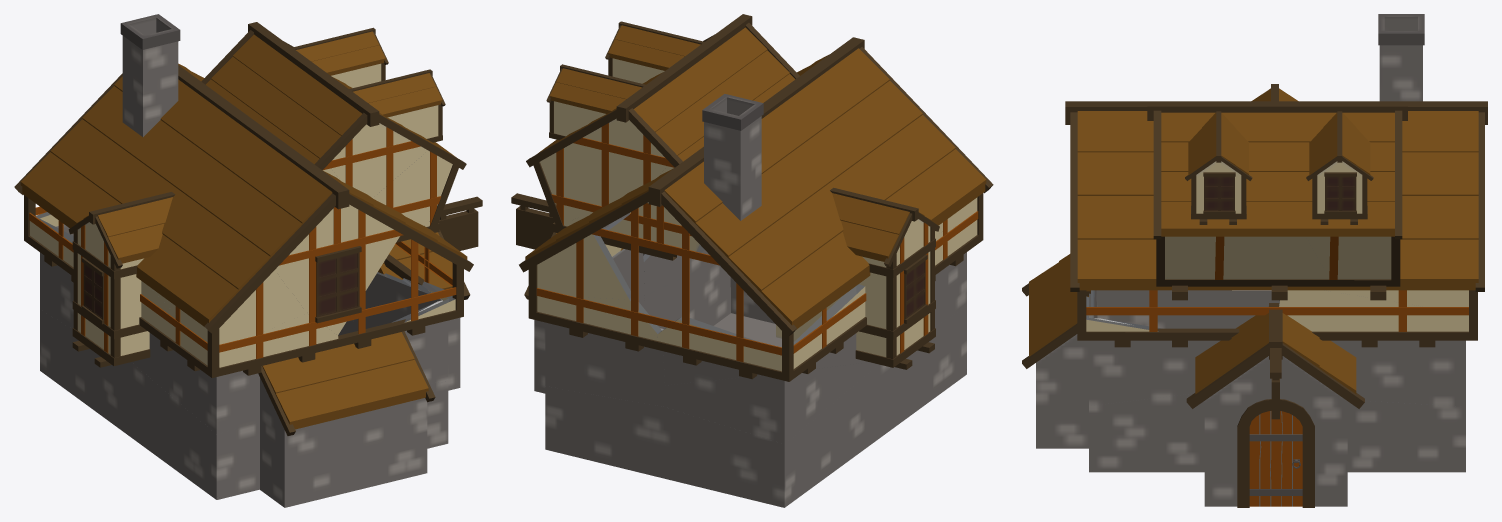
File: ExplodedHouseCastle#1.fbx
3 renders of one model, left to right at view 1: azimuth 30°, elevation 25°; view 2: azimuth 150°, elevation 25°; view 3: azimuth 270°, elevation 25°, orthographic. The views are drawn at different scales.
Visible parts, largest first — view 1: HouseCastle#1.038, HouseCastle#1.073, HouseCastle#1.074, HouseCastle#1_cell.019, HouseCastle#1_cell.014, HouseCastle#1.075, HouseCastle#1.072, HouseCastle#1.076, HouseCastle#1.039, HouseCastle#1.017, HouseCastle#1_cell.001, HouseCastle#1_cell.016 (+47 smaller); view 2: HouseCastle#1_cell.001, HouseCastle#1.073, HouseCastle#1.074, HouseCastle#1.075, HouseCastle#1_cell.015, HouseCastle#1_cell.012, HouseCastle#1.072, HouseCastle#1_cell.017, HouseCastle#1.076, HouseCastle#1_cell, HouseCastle#1_cell.019, HouseCastle#1_cell.005 (+47 smaller); view 3: HouseCastle#1.080, HouseCastle#1.071, HouseCastle#1_cell.005, HouseCastle#1_cell.012, HouseCastle#1_cell.016, HouseCastle#1_cell.017, HouseCastle#1.070, HouseCastle#1.069, HouseCastle#1.102_cell.004, HouseCastle#1.068, HouseCastle#1.159, HouseCastle#1.038 (+43 smaller).
Part boxes in pixels (<box>): HouseCastle#1.038: <box>260,378,427,507</box>; HouseCastle#1.073: <box>82,86,302,257</box>; HouseCastle#1.074: <box>50,119,270,291</box>; HouseCastle#1_cell.019: <box>128,362,259,498</box>; HouseCastle#1_cell.014: <box>131,281,338,434</box>; HouseCastle#1.075: <box>20,152,238,326</box>; HouseCastle#1.072: <box>114,76,332,224</box>; HouseCastle#1.076: <box>120,14,180,136</box>; HouseCastle#1.039: <box>276,359,428,429</box>; HouseCastle#1.017: <box>24,195,463,377</box>; HouseCastle#1_cell.001: <box>40,309,128,434</box>; HouseCastle#1_cell.016: <box>365,272,455,383</box>; HouseCastle#1_cell.001: <box>665,367,875,507</box>; HouseCastle#1.073: <box>695,81,922,257</box>; HouseCastle#1.074: <box>728,115,955,292</box>; HouseCastle#1.075: <box>761,149,986,329</box>; HouseCastle#1_cell.015: <box>665,362,876,444</box>; HouseCastle#1_cell.012: <box>545,386,664,478</box>; HouseCastle#1.072: <box>664,48,889,223</box>; HouseCastle#1_cell.017: <box>545,252,664,406</box>; HouseCastle#1.076: <box>702,94,763,220</box>; HouseCastle#1_cell: <box>657,284,868,385</box>; HouseCastle#1_cell.019: <box>875,307,966,440</box>; HouseCastle#1_cell.005: <box>643,263,781,347</box>; HouseCastle#1.080: <box>1204,356,1347,506</box>; HouseCastle#1.071: <box>1077,239,1478,290</box>; HouseCastle#1_cell.005: <box>1089,393,1204,472</box>; HouseCastle#1_cell.012: <box>1347,401,1465,472</box>; HouseCastle#1_cell.016: <box>1086,290,1220,405</box>; HouseCastle#1_cell.017: <box>1331,340,1465,406</box>; HouseCastle#1.070: <box>1077,196,1478,239</box>; HouseCastle#1.069: <box>1077,152,1478,195</box>; HouseCastle#1.102_cell.004: <box>1165,236,1329,279</box>; HouseCastle#1.068: <box>1077,111,1478,152</box>; HouseCastle#1.159: <box>1161,201,1394,236</box>; HouseCastle#1.038: <box>1036,334,1088,448</box>.
Size of the model in its own units: 2250 by 1896 by 2163.
